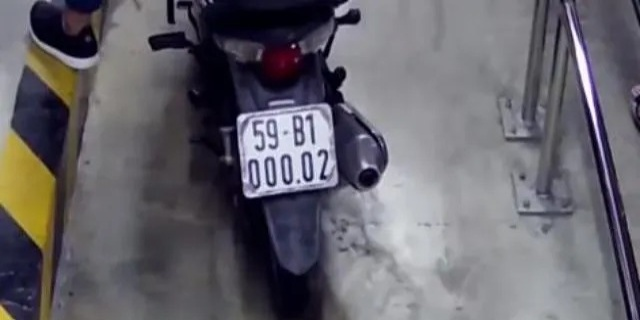bien_so: (234, 108, 342, 194)
